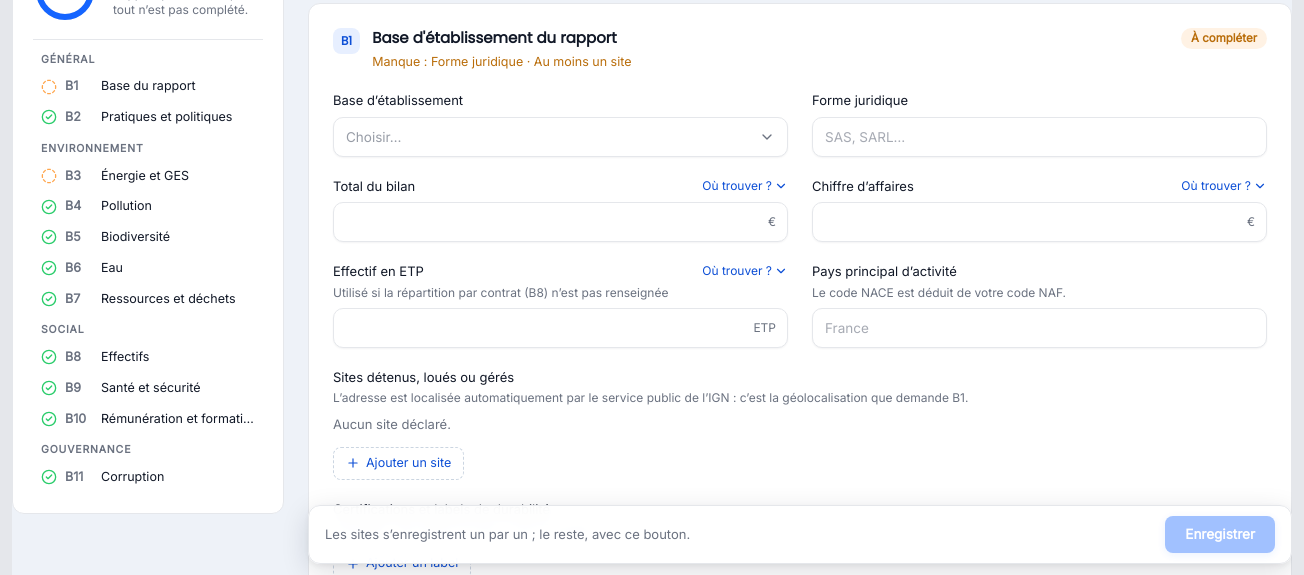
Test: IndicatorsPage › le sommaire ouvre l’onglet de l’information choisie
The width and height of the screenshot is (1304, 575).
Click the button "B9 Santé et sécurité": (148, 388) x1=33 y1=373 x2=263 y2=404
(page scrolled)
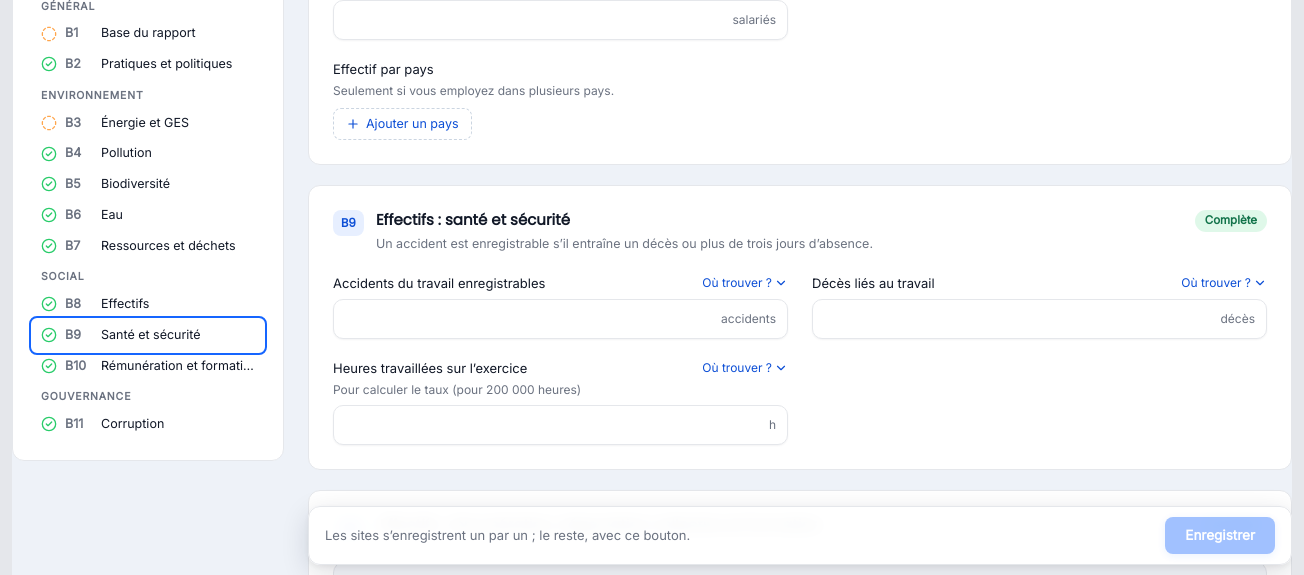
Now the heading "Effectifs : santé et sécurité" is shown, box x1=376 y1=209 x2=570 y2=230
